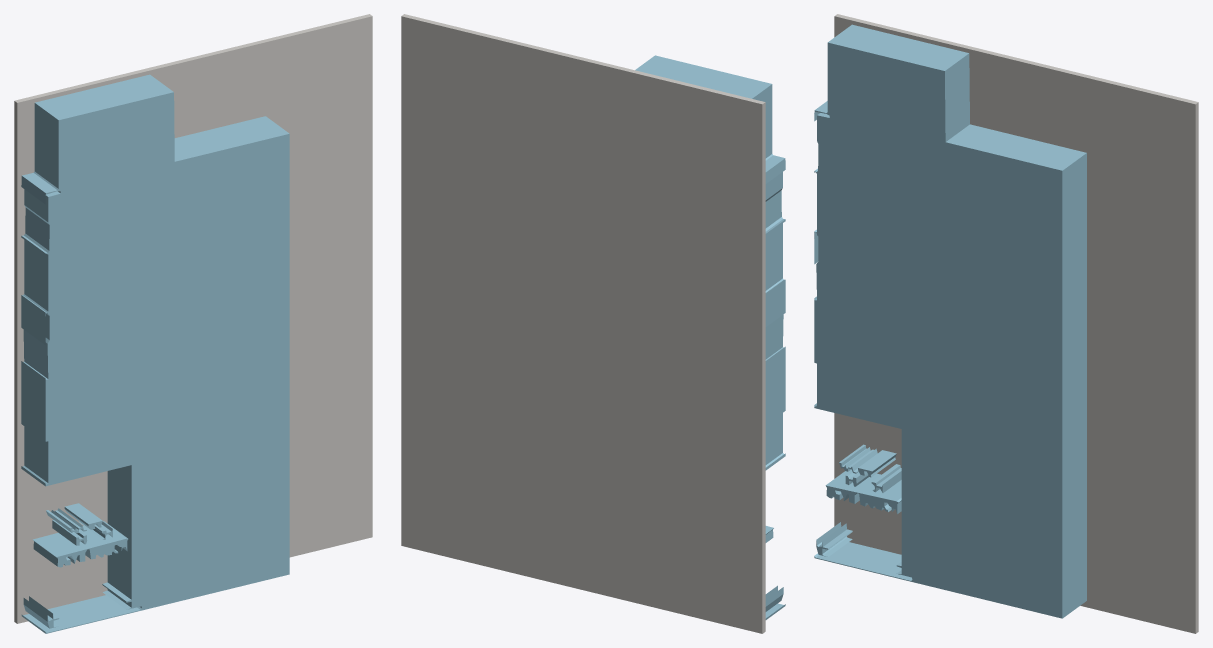
3 views of the same model, side by side, from view 1: azimuth 30°, elevation 25°; view 2: azimuth 150°, elevation 25°; view 3: azimuth 330°, elevation 25° (orthographic).
Visible parts, largest first — view 1: world; view 2: world; view 3: world.
Part boxes in pixels (left/top/right/bottom): world: left=14, top=14, right=372, bottom=633; world: left=401, top=14, right=785, bottom=633; world: left=814, top=14, right=1198, bottom=633.
Size of the model in its own units: 10.23 by 14.33 by 1.35.
